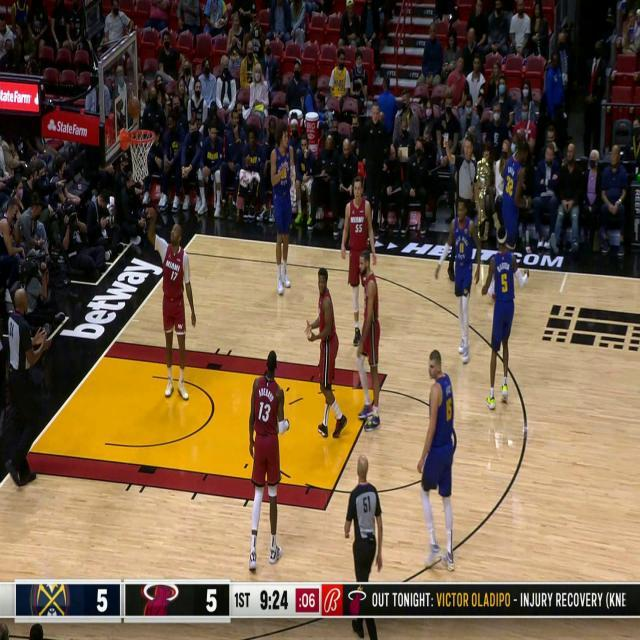rim: (126, 96, 140, 120)
